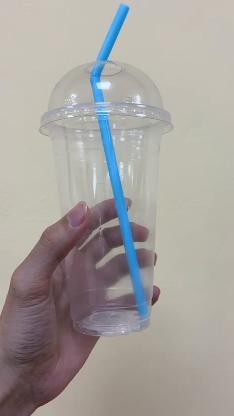Plastic Cup: (40, 62, 176, 336)
